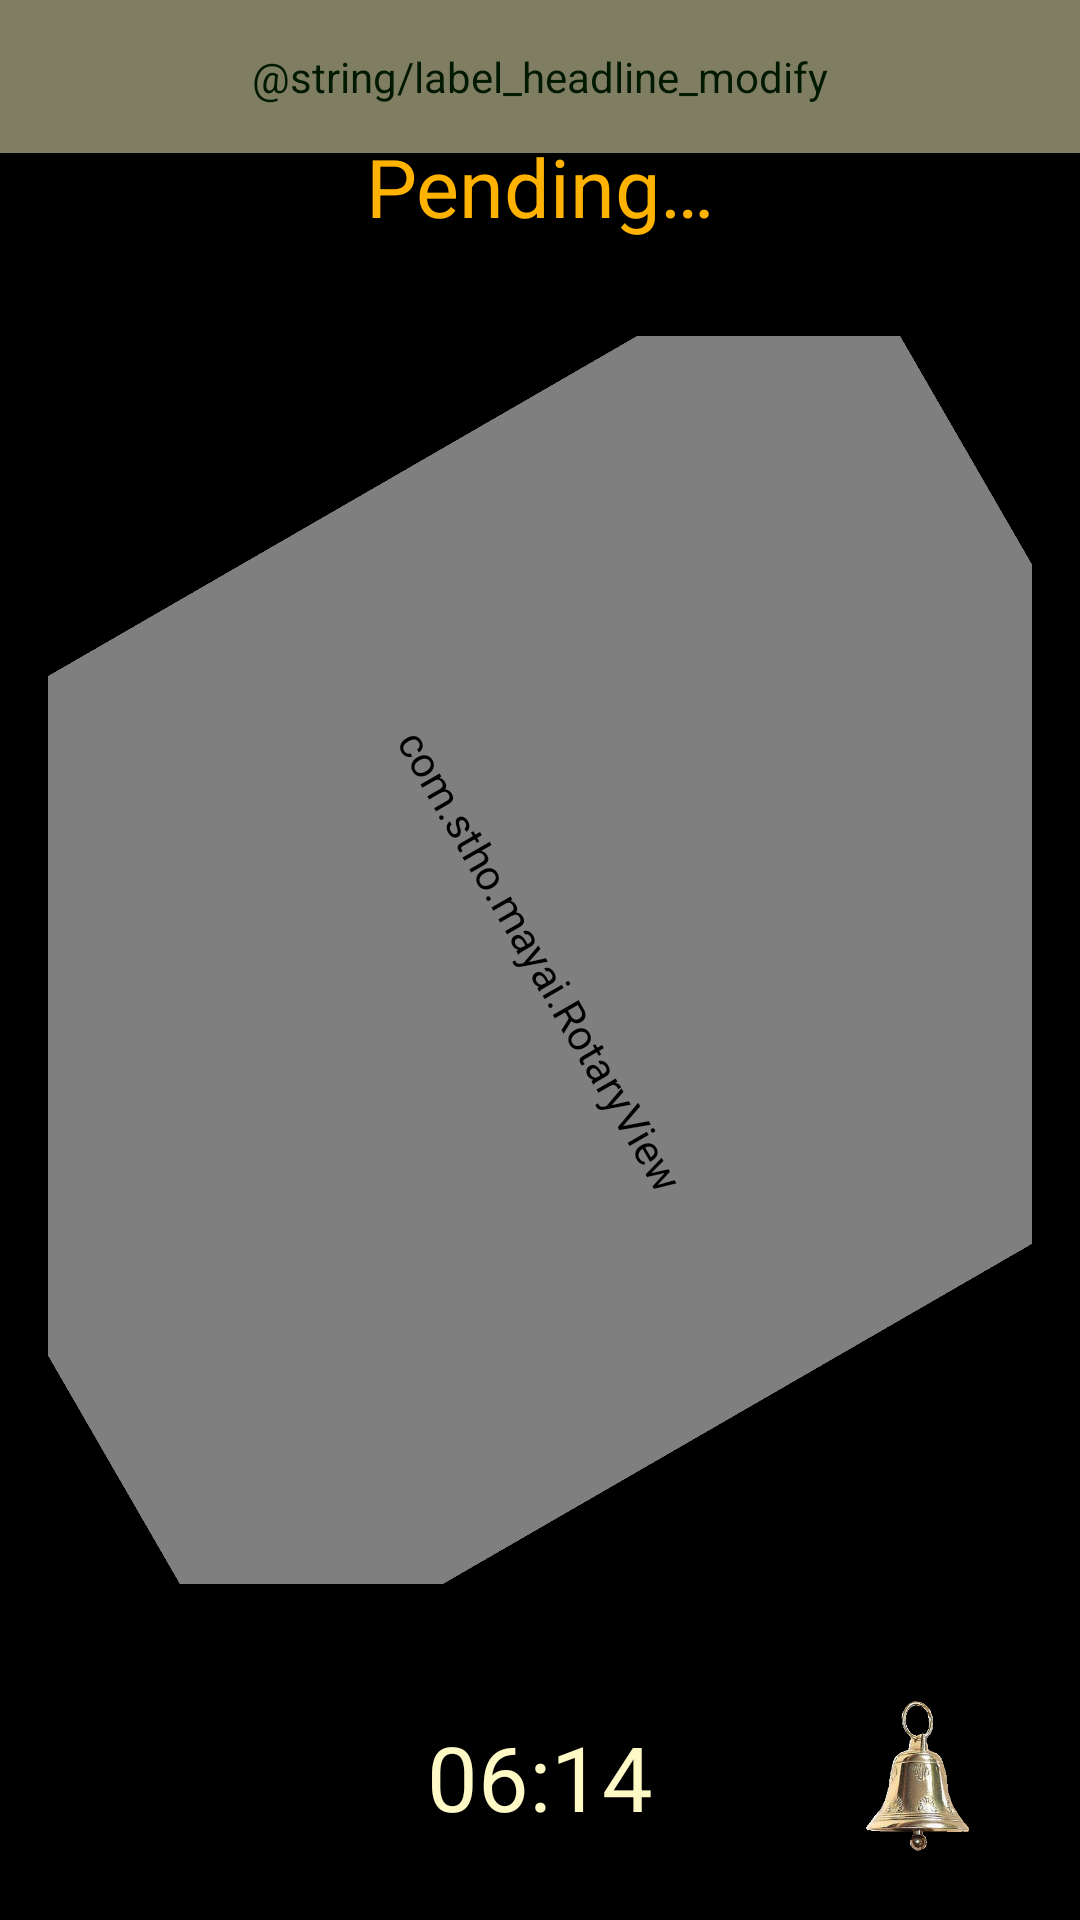

Icon bounding boxes for this 1080*1920 phone screenshot, format (x1, y1, x2, y2):
Stop alarm: (866, 1701, 969, 1851)
